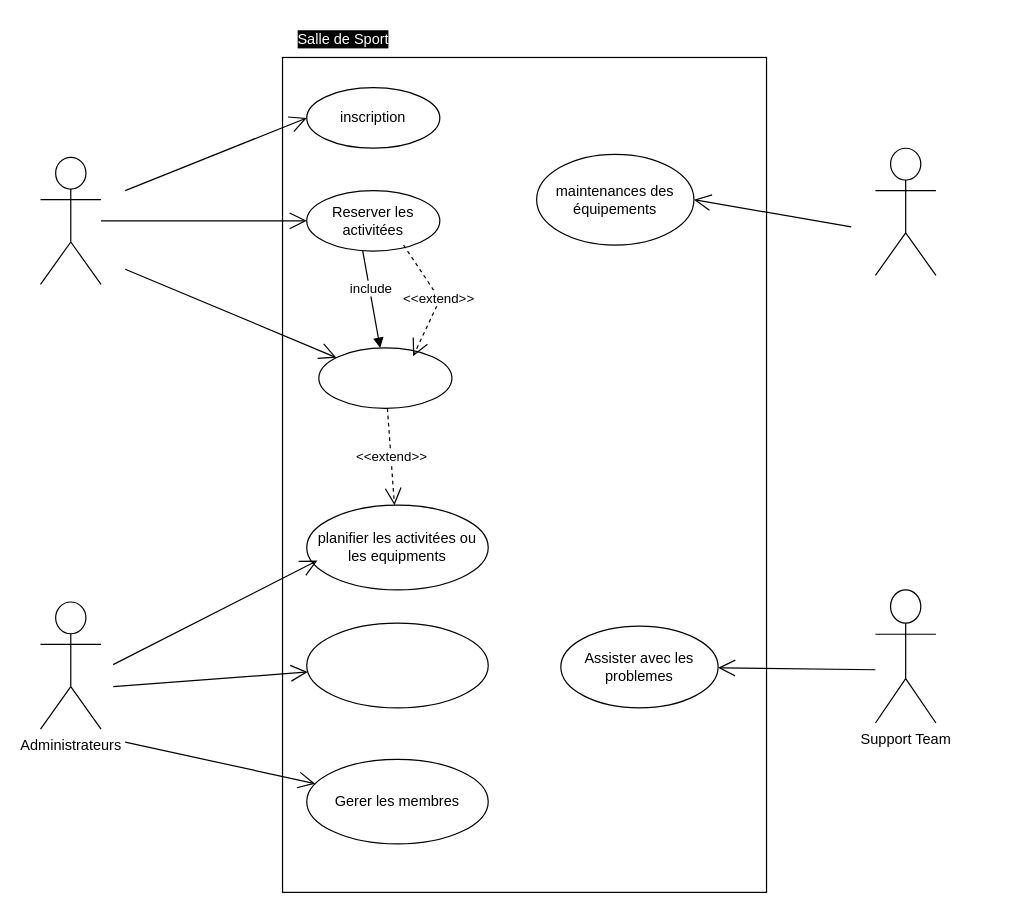
This 1030x914 diagram has some shape labels left out. The centre of each missing label's shape, as x and y in pixels:
"Afficher les planning des membres" goes at point 397,665.
"Consulter les activitées" goes at point 385,377.
"Membres" goes at point 70,220.
"équipements maintenance team" goes at point 905,211.
